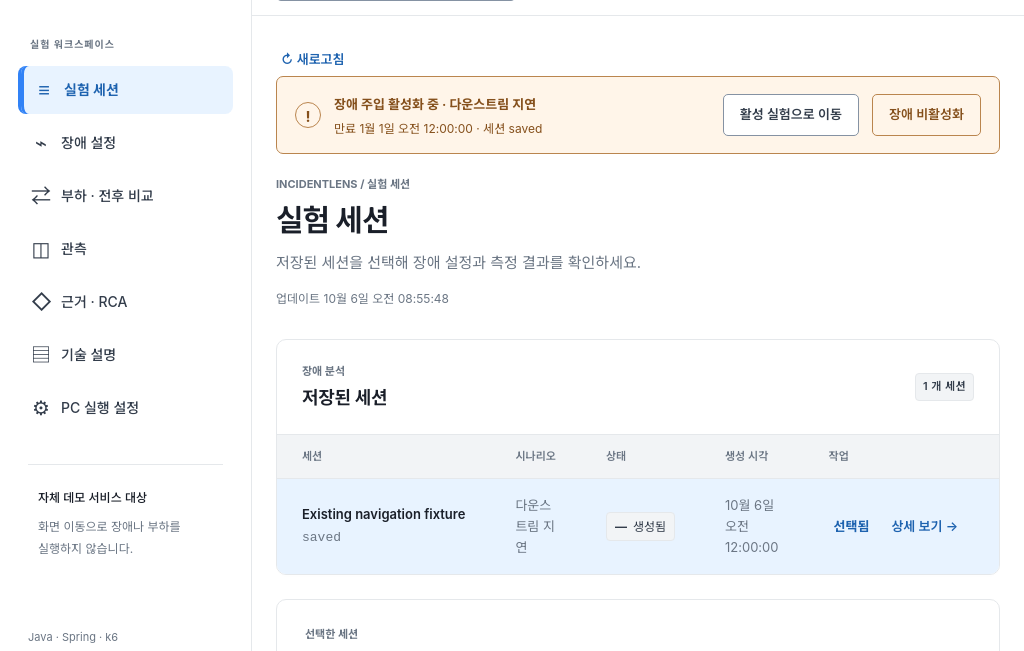
keeps unfinished session input through tab navigation
Click the button "⌁ 장애 설정". click: click(126, 143)
box: [18,119,233,167]
(page scrolled)
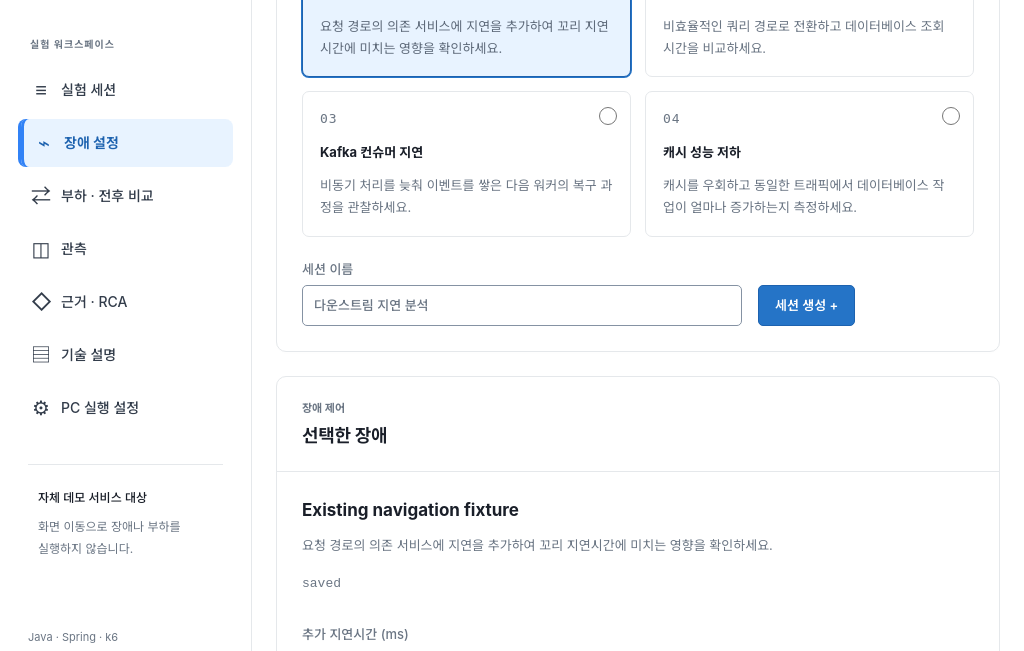
Type "Unsubmitted draft" into the field labelled "세션 이름". click: (522, 306)
box: [302,285,742,326]
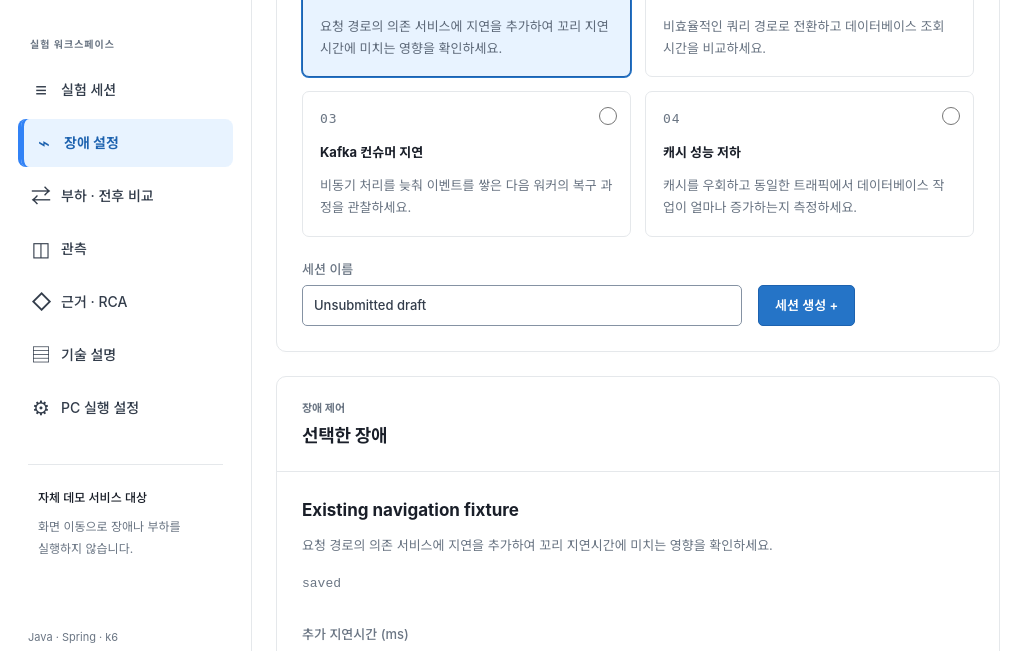
Click the button "▤ 기술 설명". click: click(126, 355)
box: [18,331,233,379]
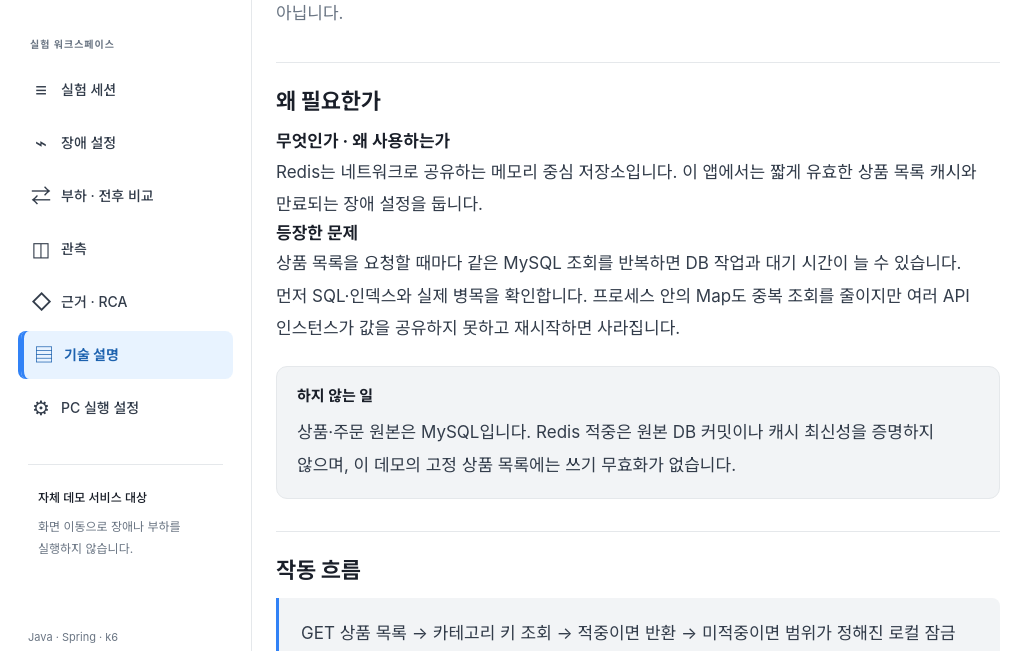
Click the button "⌁ 장애 설정". click: click(126, 143)
box: [18,119,233,167]
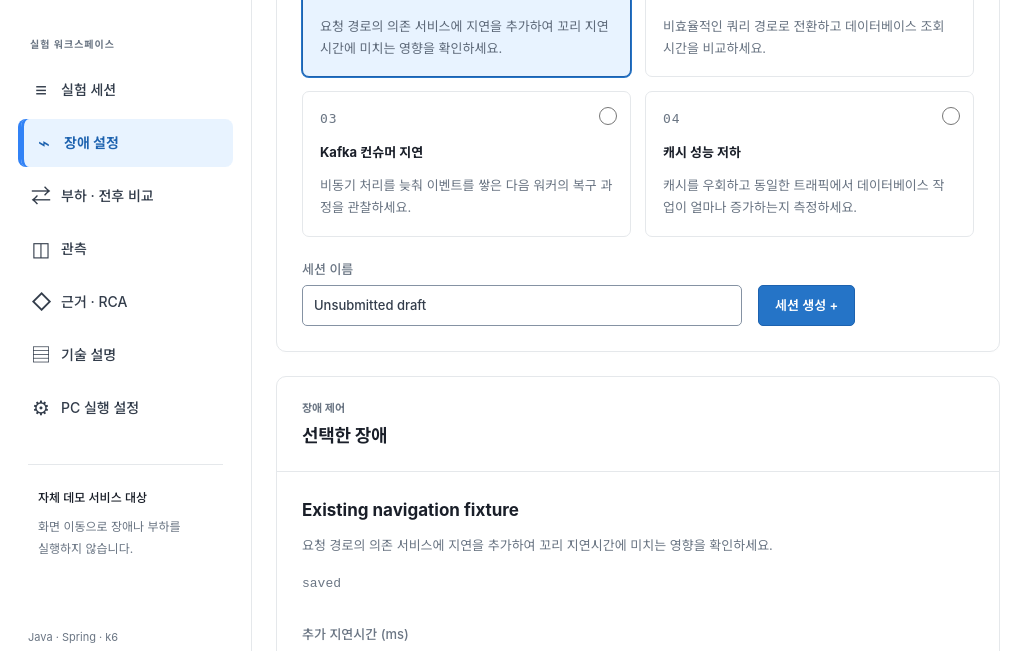
Expected: the text "saved" is shown, [302,576,341,591]
